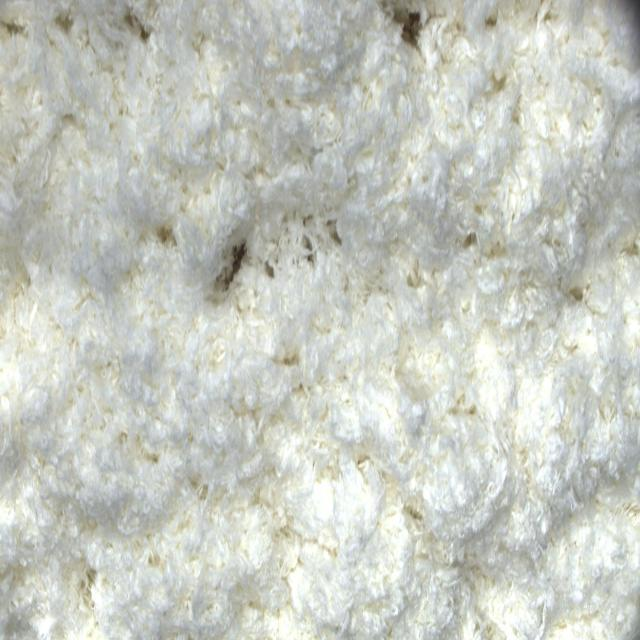dust: (225, 240, 255, 301)
